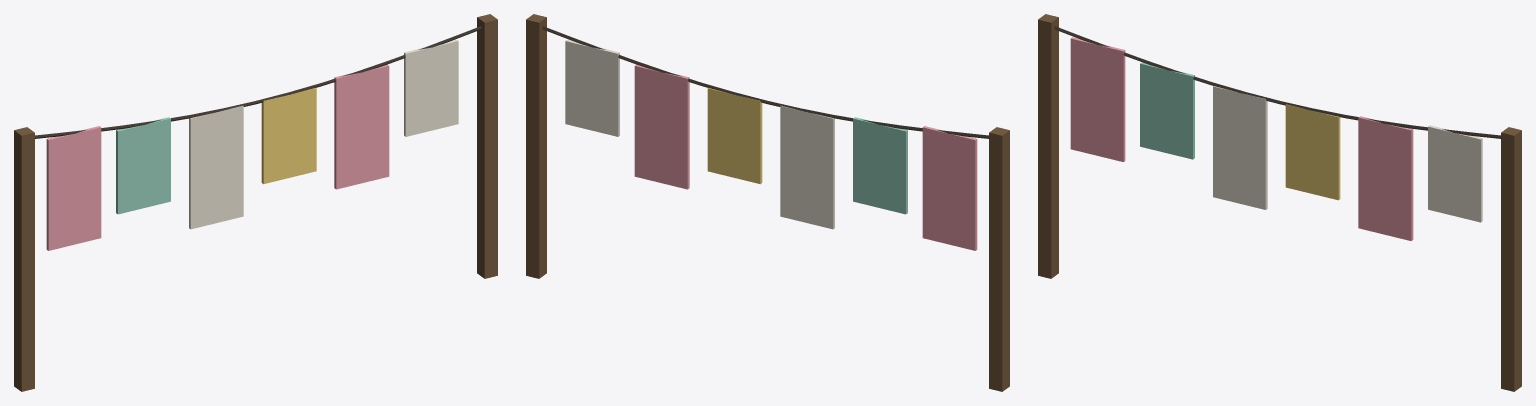
File: laundry-line.glb
3 renders of one model, left to right at view 1: azimuth 30°, elevation 25°; view 2: azimuth 150°, elevation 25°; view 3: azimuth 330°, elevation 25°, orthographic.
Visible parts, largest first — view 1: LaundryLine_ClothA, LaundryLine_Post, LaundryLine_ClothC, LaundryLine_ClothD, LaundryLine_ClothB, LaundryLine_Rope; view 2: LaundryLine_ClothA, LaundryLine_Post, LaundryLine_ClothC, LaundryLine_ClothD, LaundryLine_ClothB, LaundryLine_Rope; view 3: LaundryLine_ClothA, LaundryLine_Post, LaundryLine_ClothC, LaundryLine_ClothD, LaundryLine_ClothB, LaundryLine_Rope.
Boxes of the visible parts, x1=… form: LaundryLine_ClothA: x1=46, y1=64, x2=389, y2=250; LaundryLine_Post: x1=14, y1=14, x2=497, y2=391; LaundryLine_ClothC: x1=189, y1=39, x2=458, y2=229; LaundryLine_ClothD: x1=261, y1=88, x2=316, y2=184; LaundryLine_ClothB: x1=116, y1=117, x2=170, y2=214; LaundryLine_Rope: x1=35, y1=26, x2=481, y2=138; LaundryLine_ClothA: x1=634, y1=64, x2=977, y2=250; LaundryLine_Post: x1=526, y1=14, x2=1009, y2=391; LaundryLine_ClothC: x1=565, y1=39, x2=834, y2=229; LaundryLine_ClothD: x1=707, y1=88, x2=762, y2=184; LaundryLine_ClothB: x1=853, y1=117, x2=907, y2=214; LaundryLine_Rope: x1=542, y1=26, x2=988, y2=138; LaundryLine_ClothA: x1=1070, y1=37, x2=1413, y2=240; LaundryLine_Post: x1=1038, y1=14, x2=1521, y2=391; LaundryLine_ClothC: x1=1213, y1=86, x2=1482, y2=222; LaundryLine_ClothD: x1=1285, y1=104, x2=1340, y2=200; LaundryLine_ClothB: x1=1140, y1=62, x2=1194, y2=159; LaundryLine_Rope: x1=1054, y1=26, x2=1500, y2=138.
Size of the model in its own units: 14.4 by 7.4 by 0.3999.
